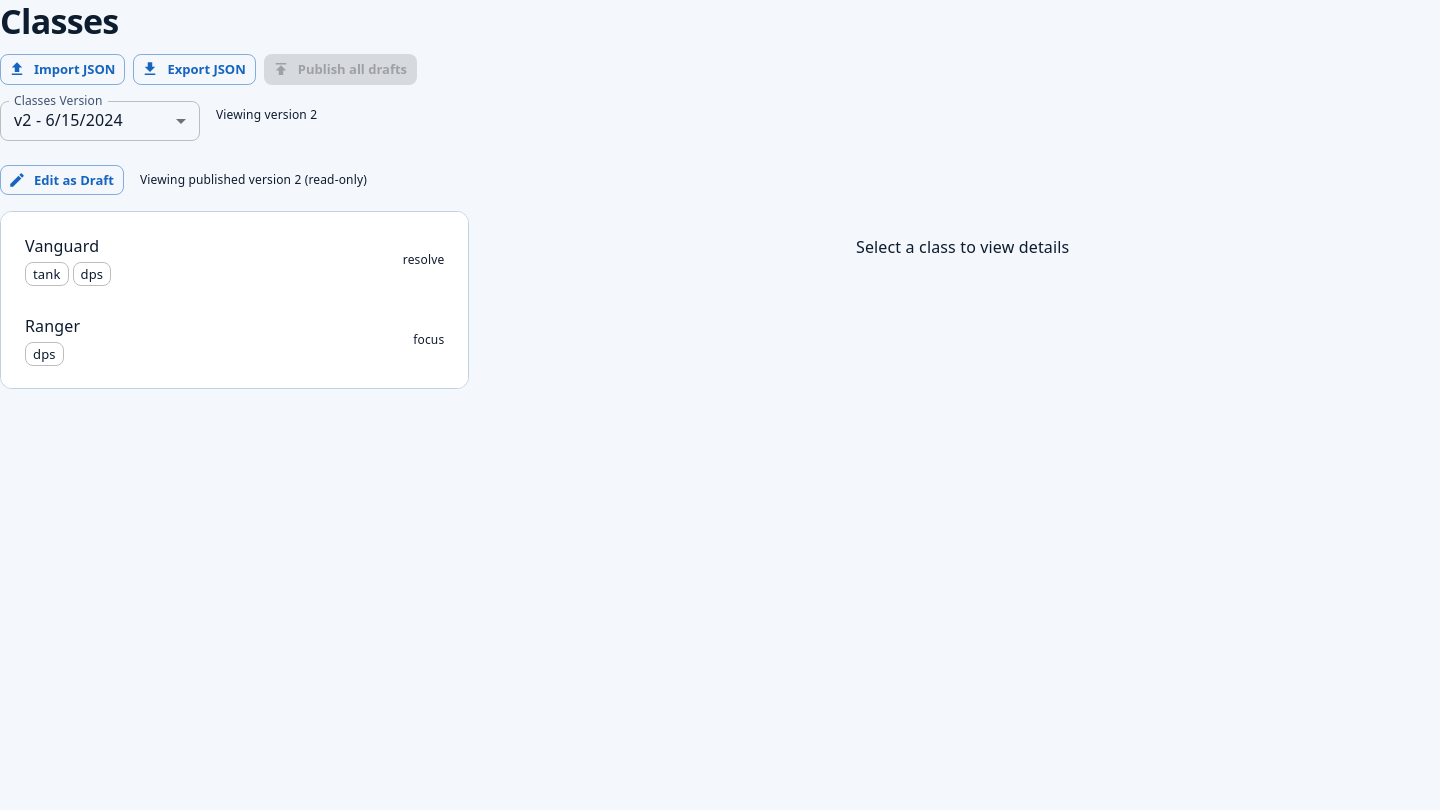
Scenario: Draft Editing and Publishing › Add and delete draft entries (MMO-25) › blocks empty and duplicate ids and shows the error next to the field
Click the dropdown: (68, 120) [14,109,123,131]
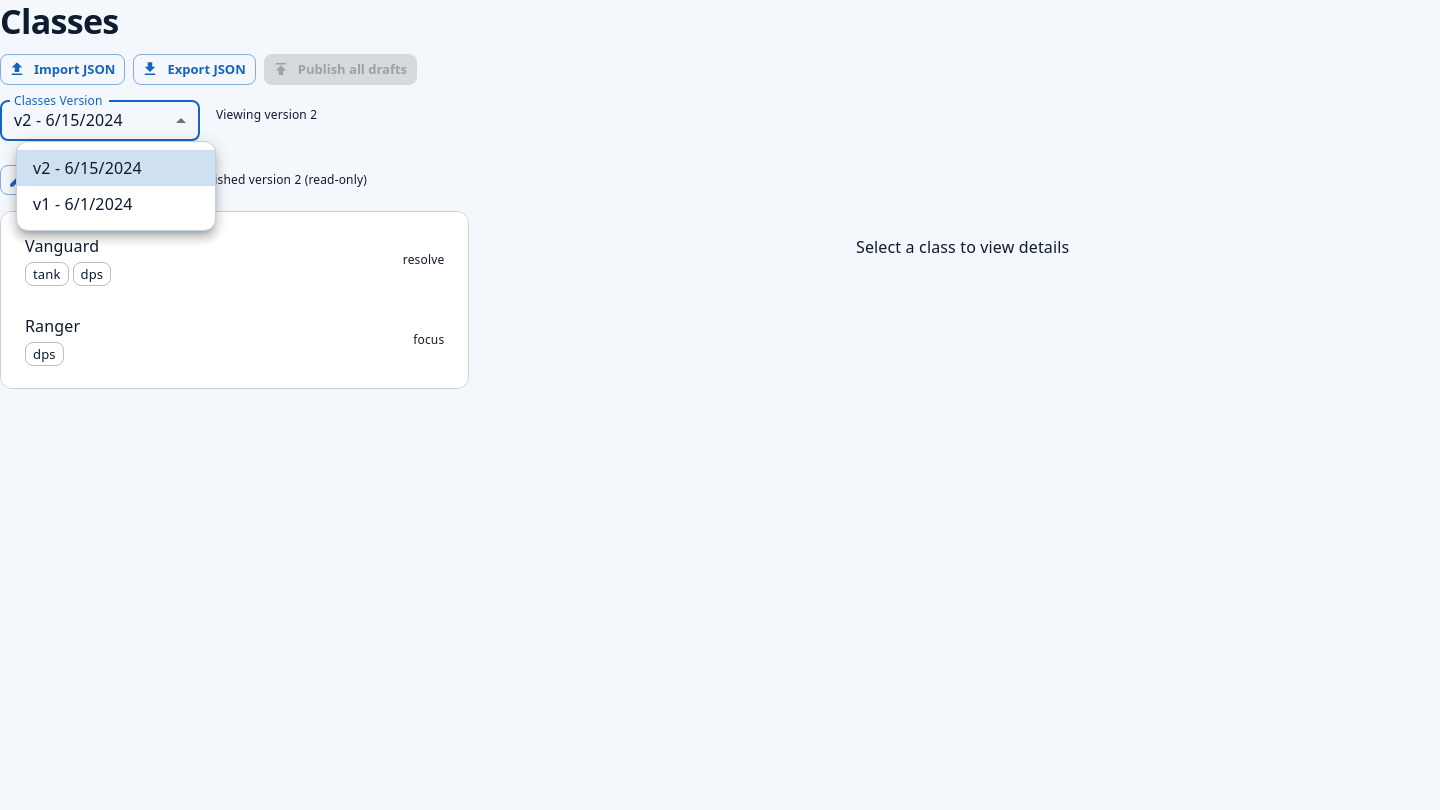
Click the option "v2 - 6/15/2024": (116, 168) [17,150,215,186]
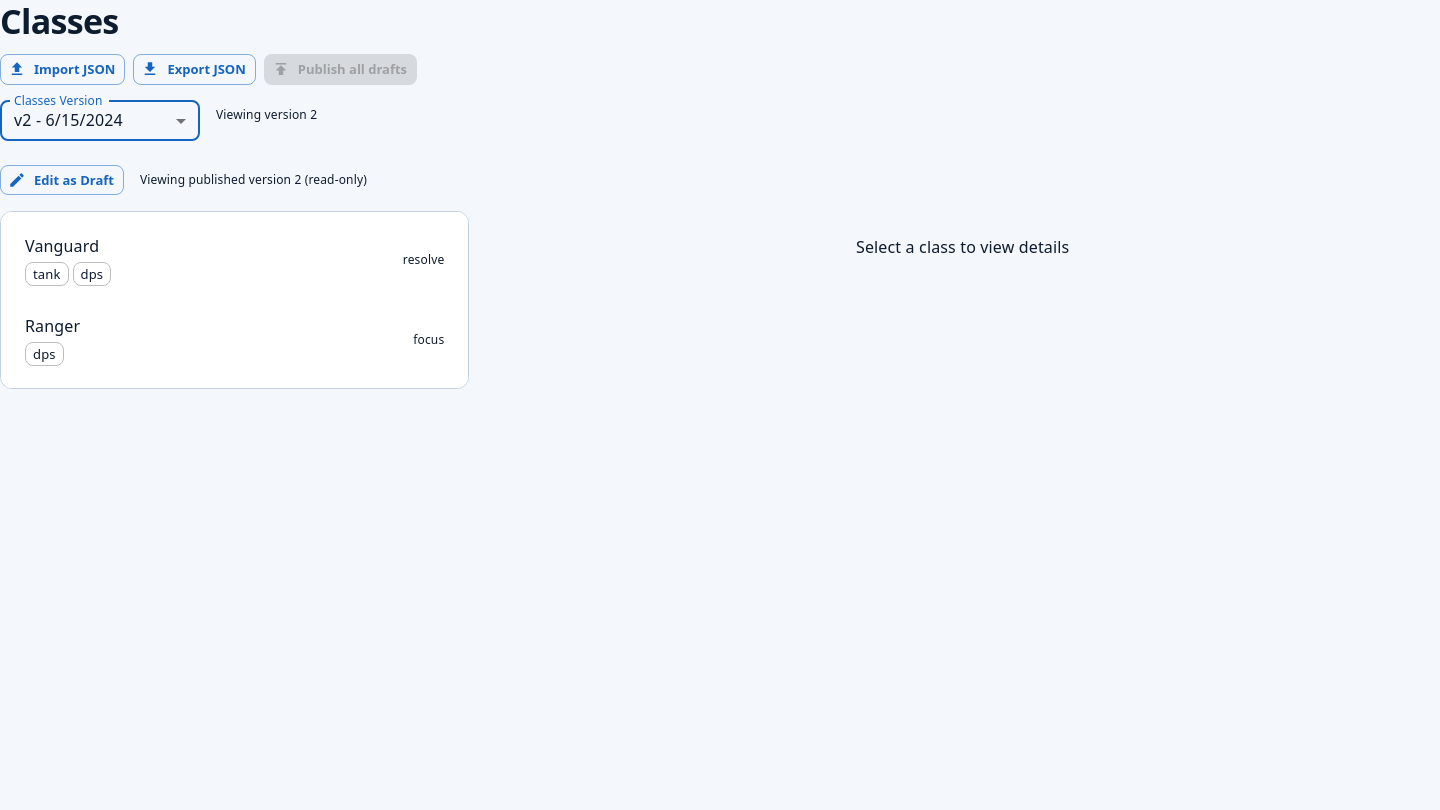
Expected: the text "Vanguard" is shown, [25,235,99,257]
Click the button "Edit as Draft": (62, 180) [0,165,124,195]
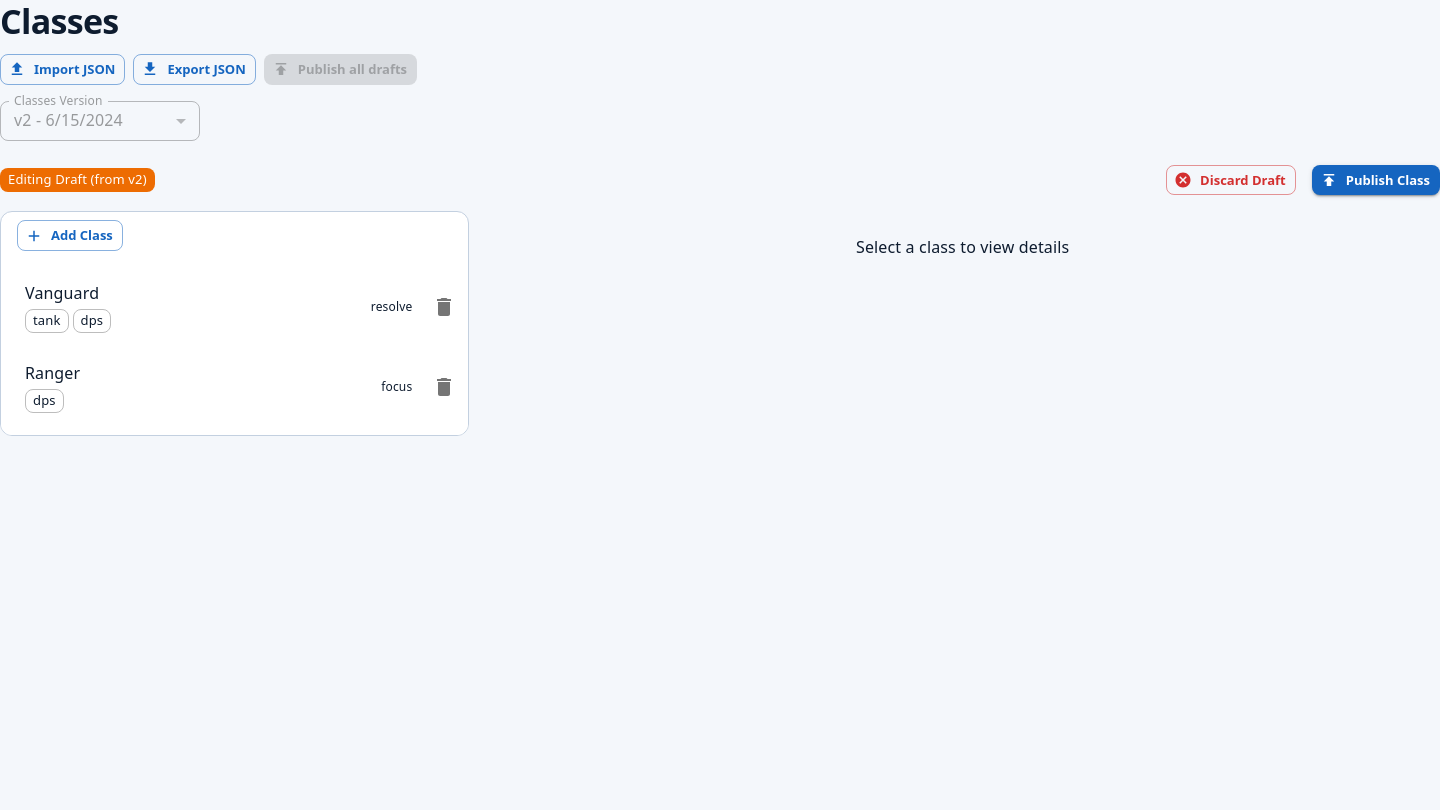
Now the text "Editing Draft (from v2)" is shown, box [0,170,155,190]
Click the button "Add Class": (70, 236) [17,220,123,251]
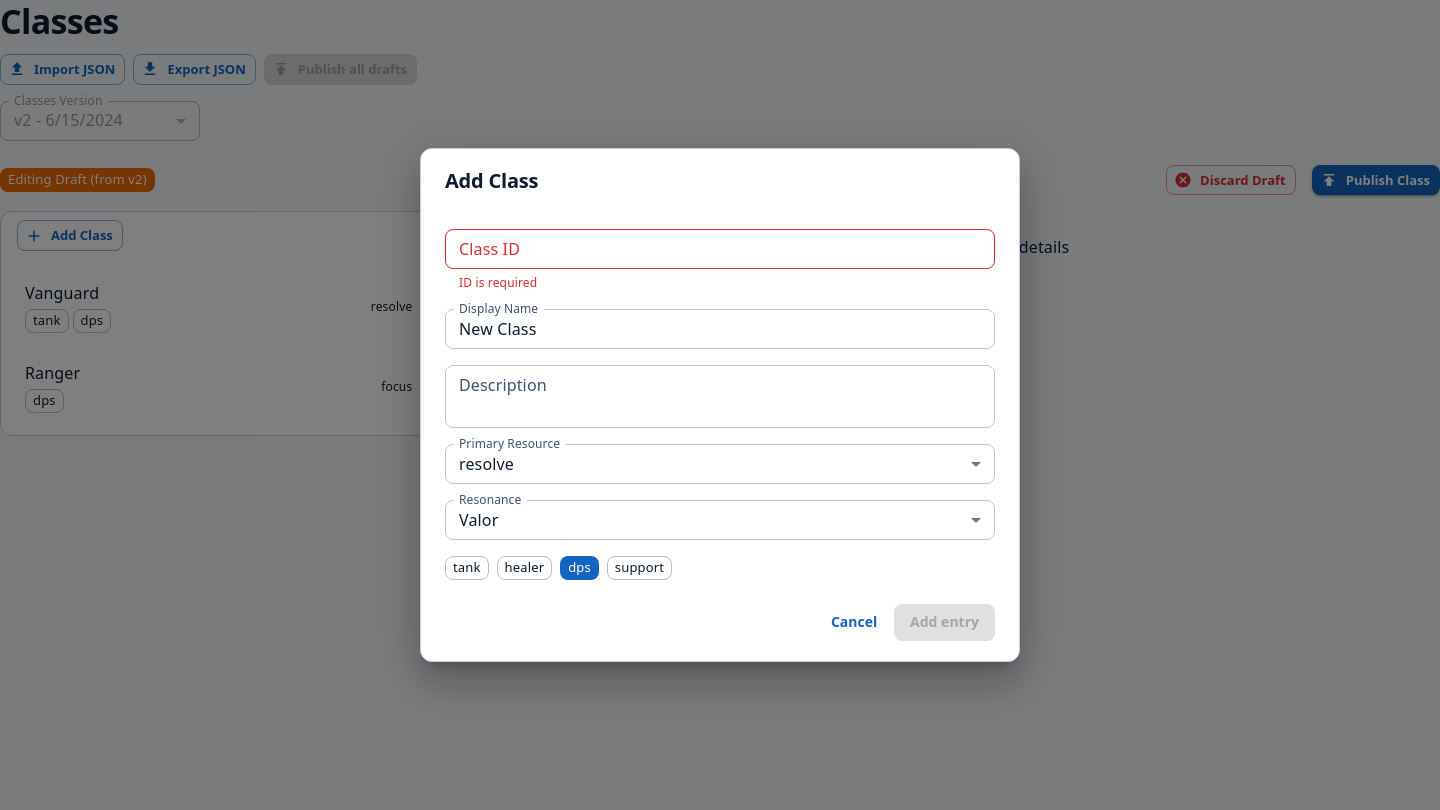
Now the text "ID is required" is shown, box [459,274,537,291]
Now the button "Add entry" is disabled, box [894,604,995,641]
In the field labelled "Class ID": (720, 249) [445,229,995,269], type "vanguard"
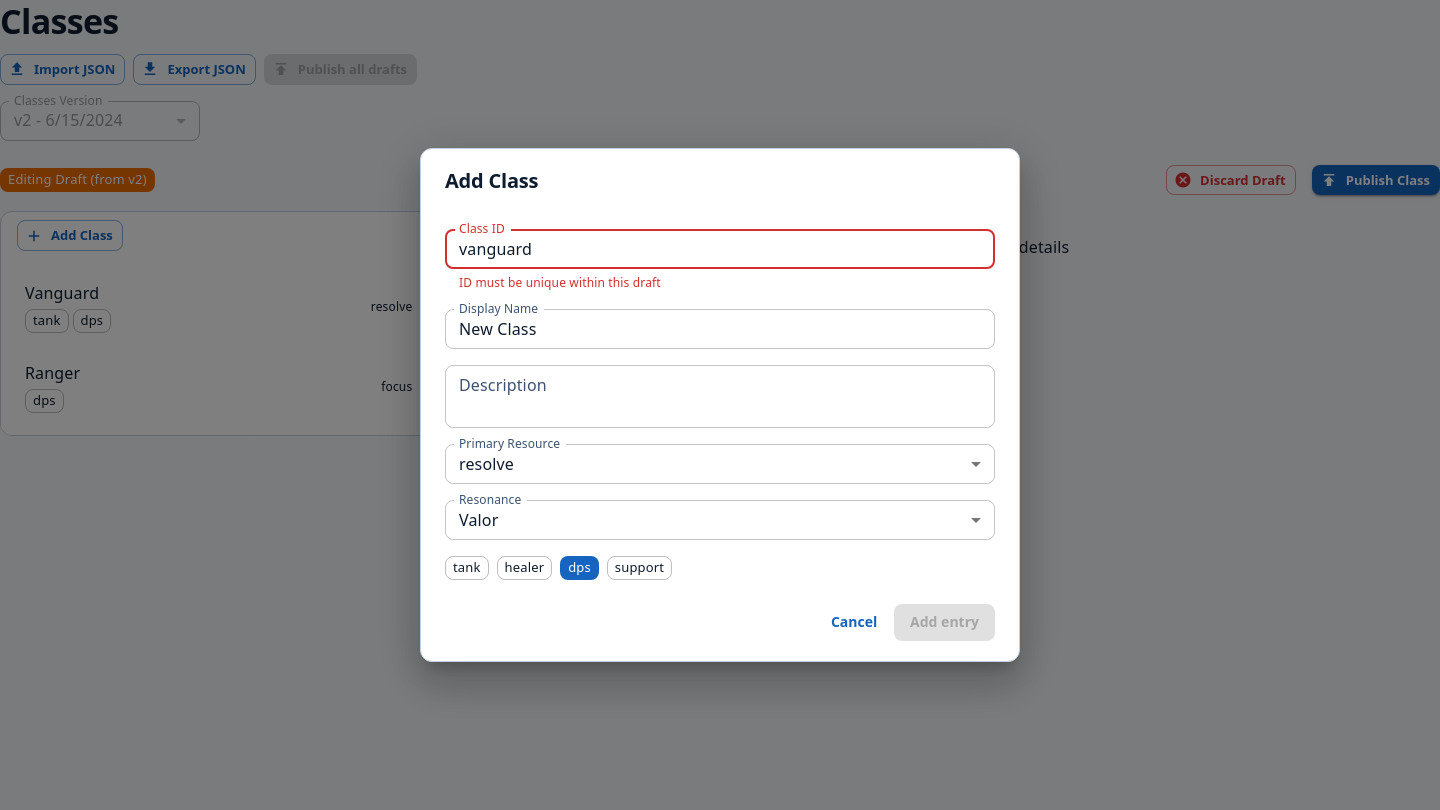
Now the button "Add entry" is disabled, box [894,604,995,641]
Now the text "ID must be unique within this draft" is shown, box [459,274,661,291]
